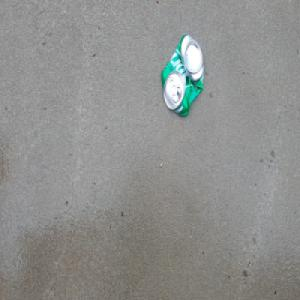SodaCan: (160, 32, 205, 119)
